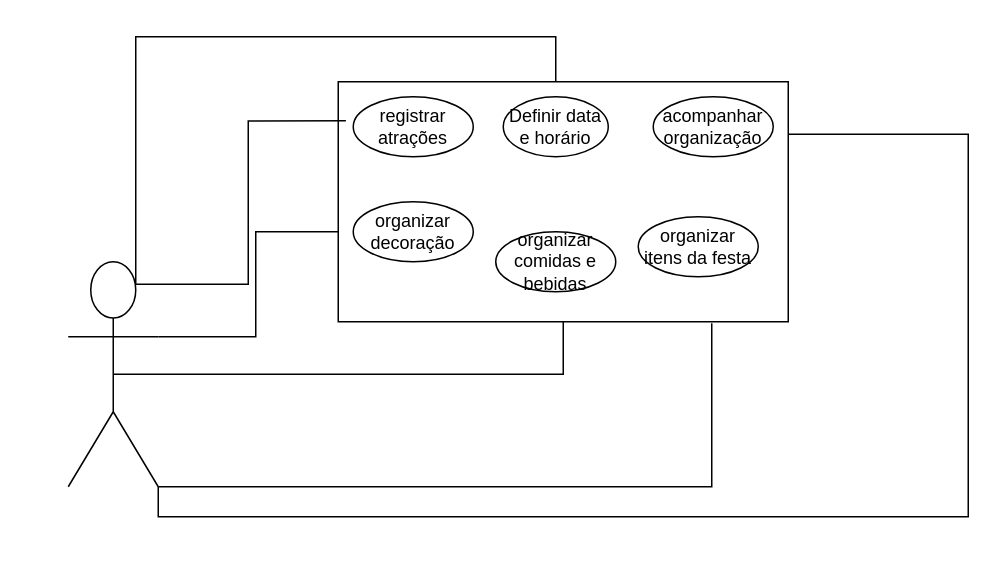
This 1007x567 diagram has some shape labels left out. The shapes that lost their labels are listed below. From the top down, each one's box as (x1, y1, x2, y2) in pixels, then its label:
(337, 80, 788, 322): MeuEvento
(67, 260, 158, 487): organizadora da festa
